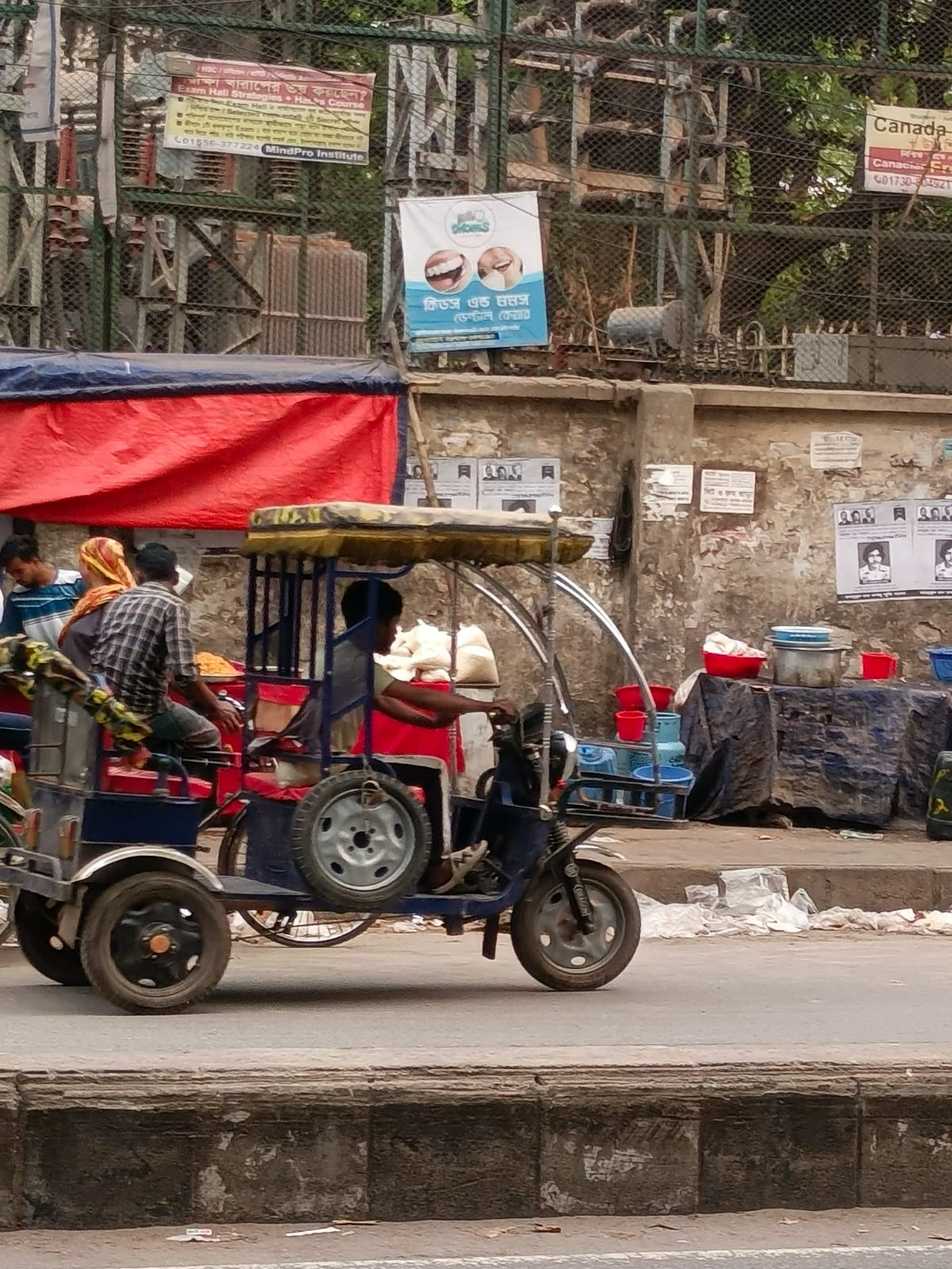auto-ricksaw: (19, 476, 749, 1090)
